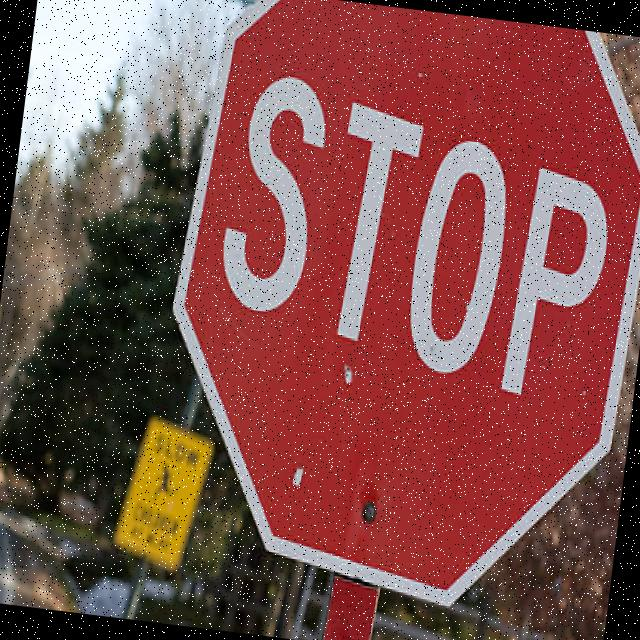stop: (134, 0, 640, 623)
